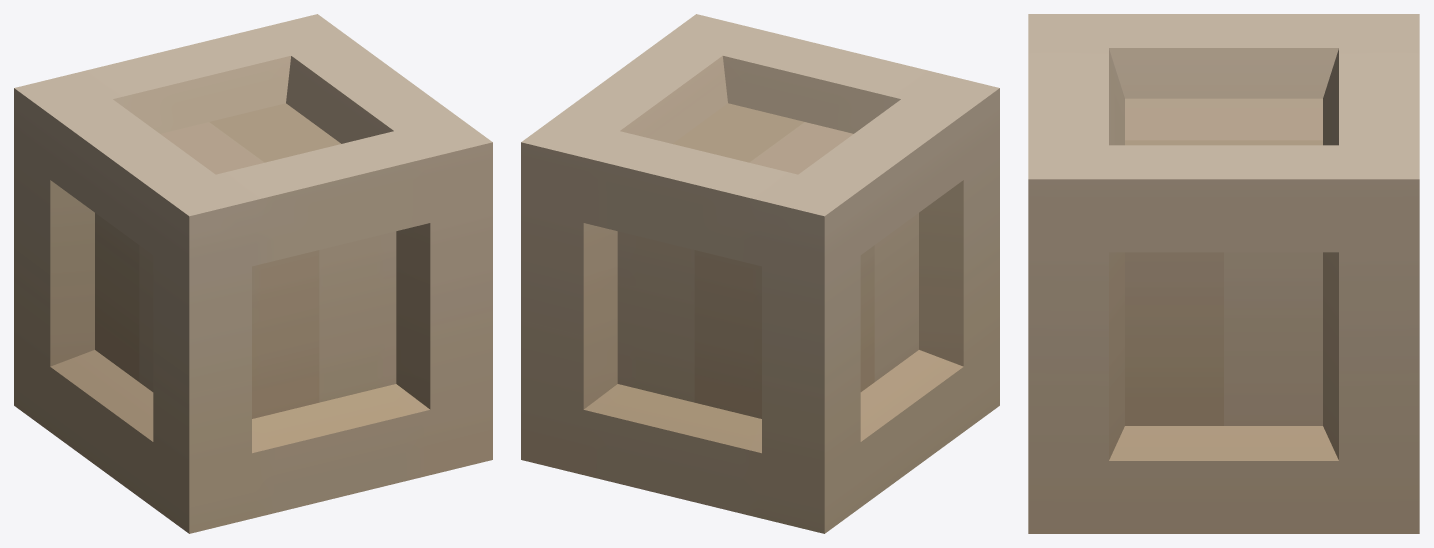
File: crate_b_small.glb
3 views of the same model, side by side, from view 1: azimuth 30°, elevation 25°; view 2: azimuth 150°, elevation 25°; view 3: azimuth 270°, elevation 25° (orthographic). The views are drawn at different scales.
Visible parts, largest first — view 1: crate_B_small; view 2: crate_B_small; view 3: crate_B_small.
Part boxes in pixels (x1,y1,x2,y2): crate_B_small: [14, 14, 492, 533]; crate_B_small: [521, 14, 999, 533]; crate_B_small: [1028, 14, 1419, 533].
Size of the model in its own units: 0.14 by 0.14 by 0.14.
Materials: 1 (1 with a texture image).
